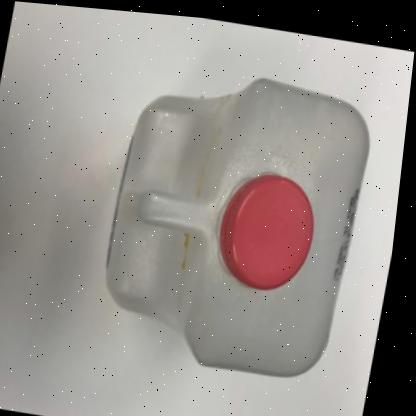Plastic: (111, 72, 371, 370)
